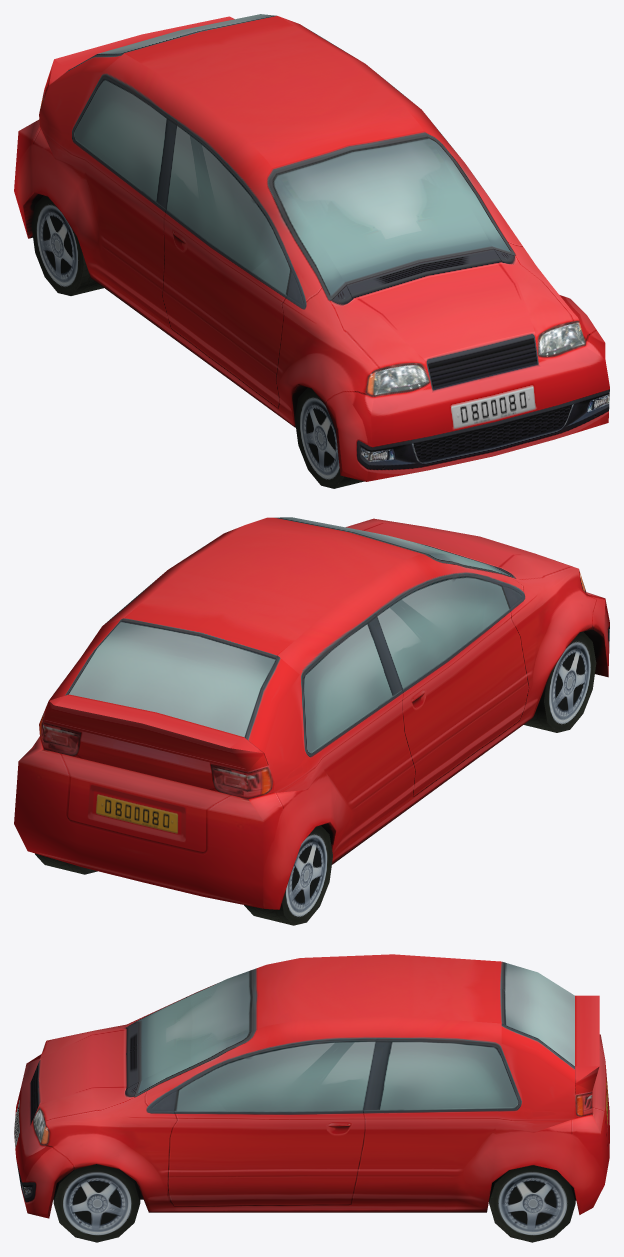
Rendered from Sun_0025_Car_Type2_large_Hatchback.fbx.
3 views of the same model, one above another, from view 1: azimuth 30°, elevation 25°; view 2: azimuth 150°, elevation 25°; view 3: azimuth 270°, elevation 25° (orthographic). The views are drawn at different scales.
Visible parts, largest first — view 1: Sun_0025_Car_Type2_large_Hatchback; view 2: Sun_0025_Car_Type2_large_Hatchback; view 3: Sun_0025_Car_Type2_large_Hatchback.
Boxes of the visible parts, bbox=[...] form: Sun_0025_Car_Type2_large_Hatchback: bbox=[14, 14, 609, 488]; Sun_0025_Car_Type2_large_Hatchback: bbox=[14, 517, 609, 925]; Sun_0025_Car_Type2_large_Hatchback: bbox=[14, 954, 609, 1242].
Bounding box in the file's own units: 183 × 166 × 426.
